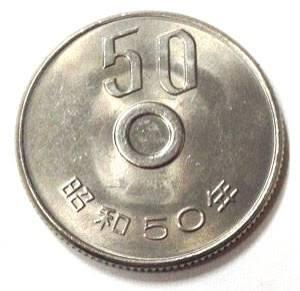year: (61, 176, 206, 243), (202, 179, 238, 215)
